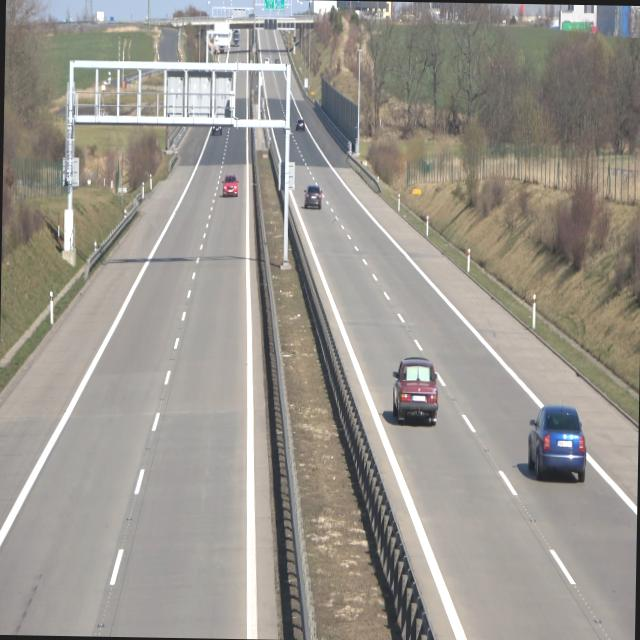Vehicle: (525, 398, 590, 488), (396, 354, 440, 426), (304, 183, 322, 210), (222, 174, 239, 198), (296, 116, 306, 132)
